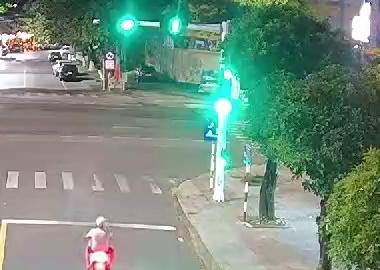green_light: (153, 11, 184, 39), (212, 93, 236, 124), (113, 12, 138, 39)
stop_line: (2, 216, 186, 233)
